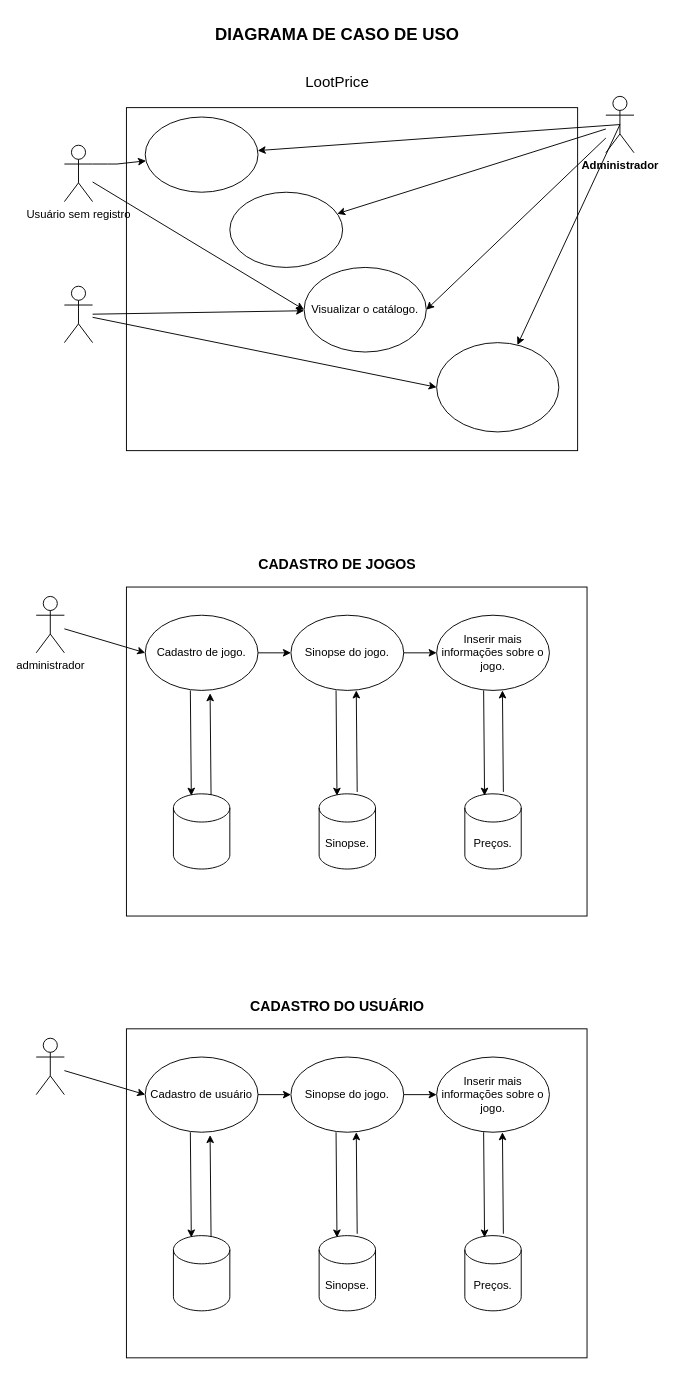
Some shapes in this 675 by 1374 pixel diagram are drawn without their labels. The shapes that lost their labels are listed below. From the top down, each one's centre as x and y in pixels, then its label:
At (x=201, y=154): "Cadastro de usuário.".
At (x=286, y=229): "Cadastro de jogos.".
At (x=78, y=314): "Usuário com registro".
At (x=497, y=387): "Comentar/avaliar jogos.".
At (x=201, y=831): "Jogos.".
At (x=49, y=1066): "Usuário".
At (x=201, y=1273): "Banco de dados.".
